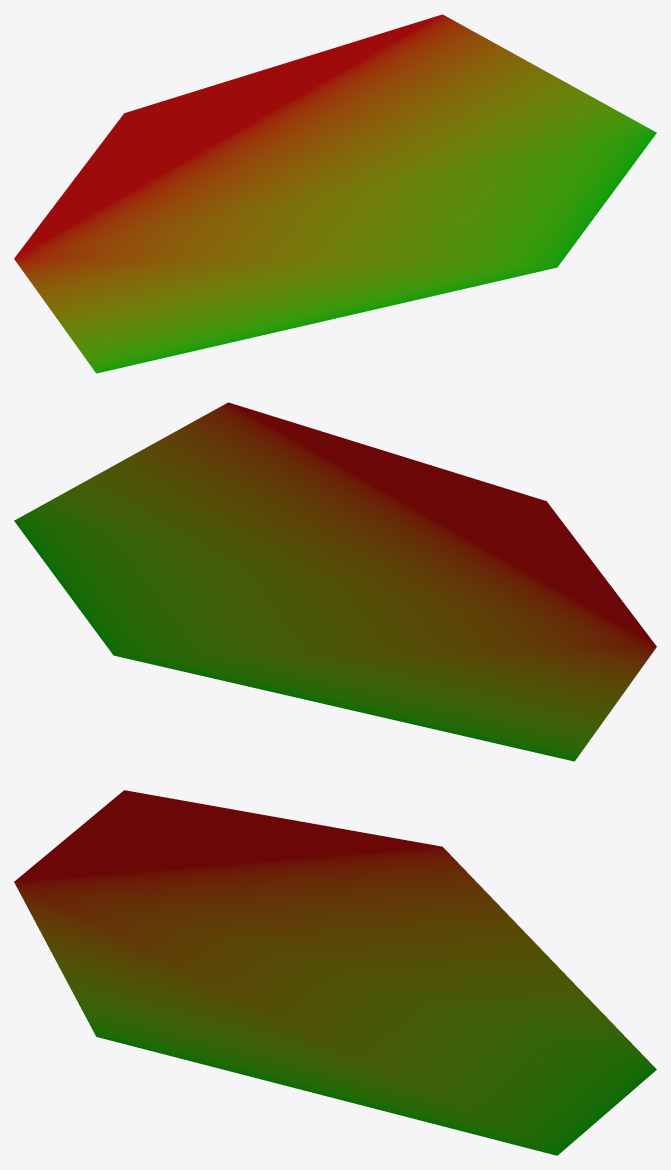
Rendered from Var15_LOD4.fbx.
The picture shows the model from 3 angles, top to bottom: view 1: azimuth 30°, elevation 25°; view 2: azimuth 150°, elevation 25°; view 3: azimuth 330°, elevation 25°; orthographic projection.
Parts seen in each view (by area): view 1: _9ea5_Var15_LOD4; view 2: _9ea5_Var15_LOD4; view 3: _9ea5_Var15_LOD4.
Part boxes in pixels (box(x1,y1,x2,y2)): _9ea5_Var15_LOD4: box(14, 14, 656, 373); _9ea5_Var15_LOD4: box(14, 402, 656, 761); _9ea5_Var15_LOD4: box(14, 790, 656, 1155).
Bounding box in the file's own units: 17.92 × 7.49 × 4.17e-07.
